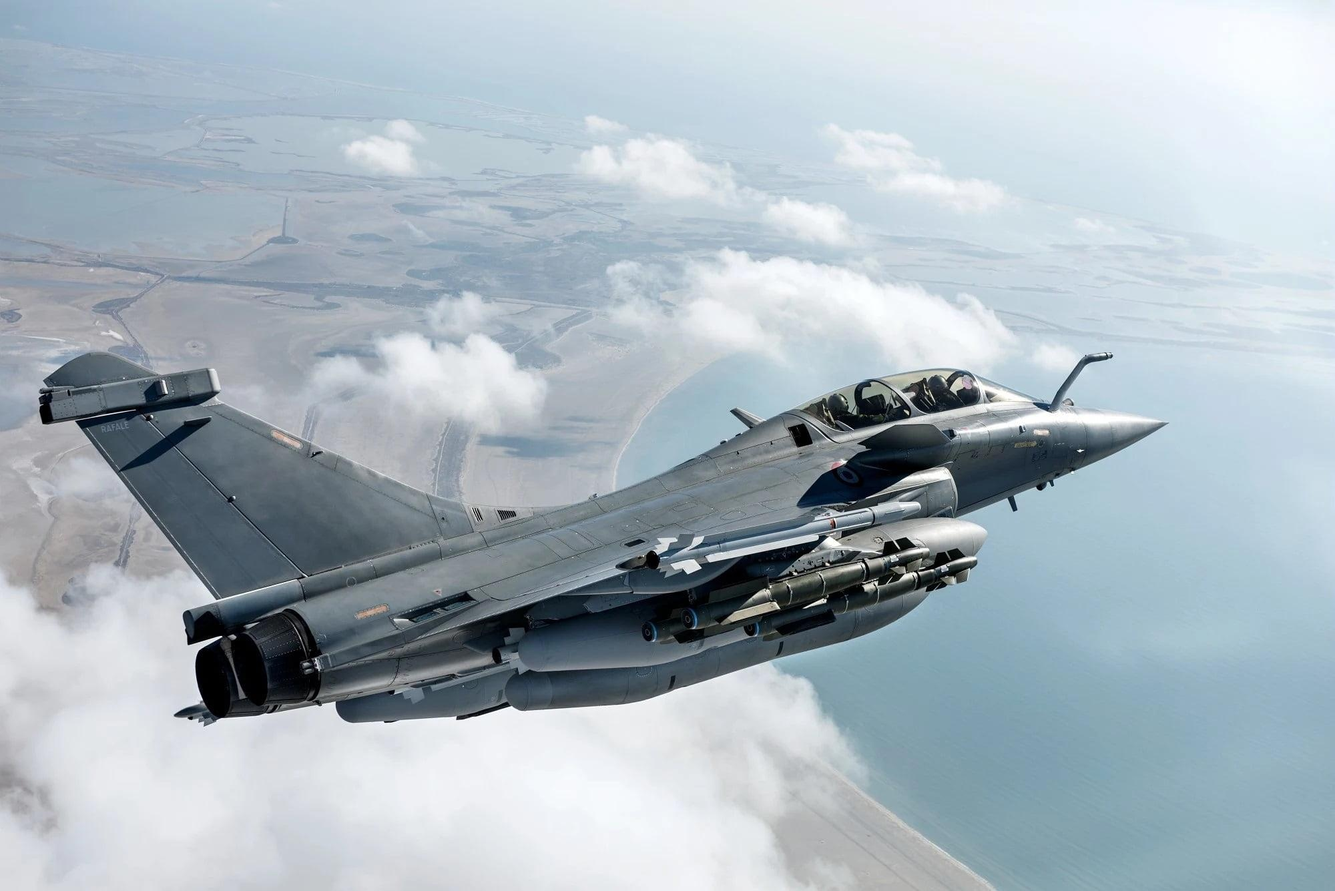aircraft: (163, 349, 1176, 721)
